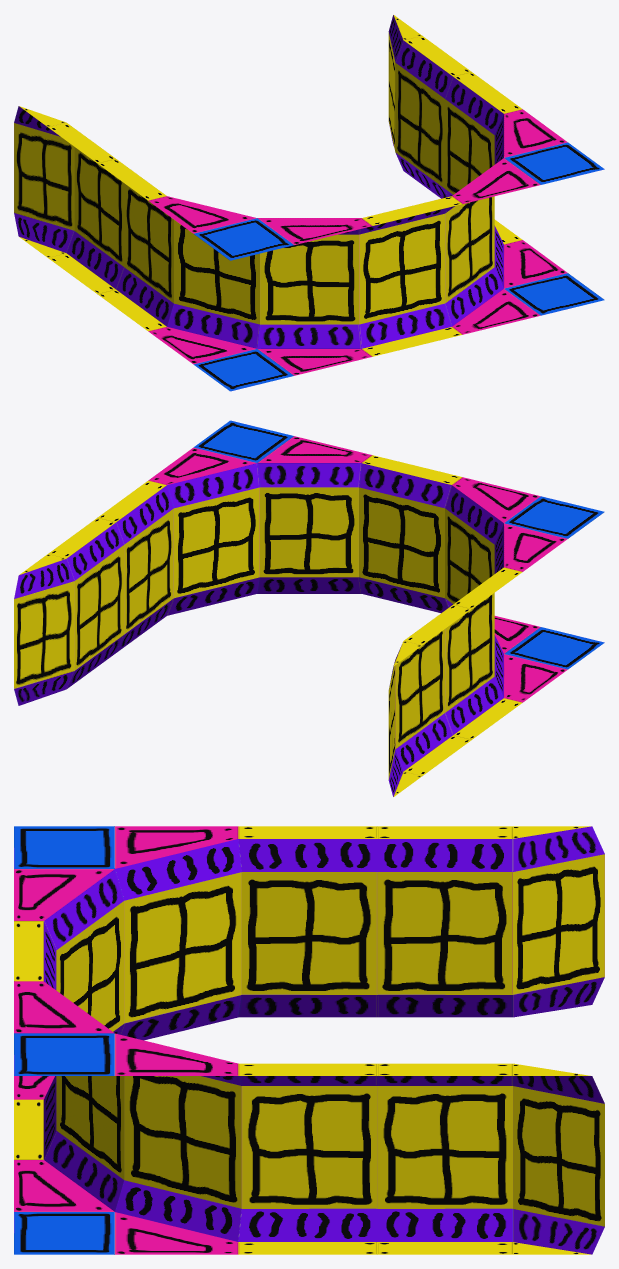
The model's file is Floor_3.fbx.
3 views of the same model, one above another, from view 1: azimuth 30°, elevation 25°; view 2: azimuth 150°, elevation 25°; view 3: azimuth 270°, elevation 25° (orthographic). The views are drawn at different scales.
Visible parts, largest first — view 1: Floor_3_Connector; view 2: Floor_3_Connector; view 3: Floor_3_Connector.
Boxes of the visible parts, x1,y1,x2,y2 form: Floor_3_Connector: [14, 15, 604, 391]; Floor_3_Connector: [14, 420, 604, 796]; Floor_3_Connector: [14, 826, 604, 1254].
Size of the model in its own units: 300 by 100 by 300.
